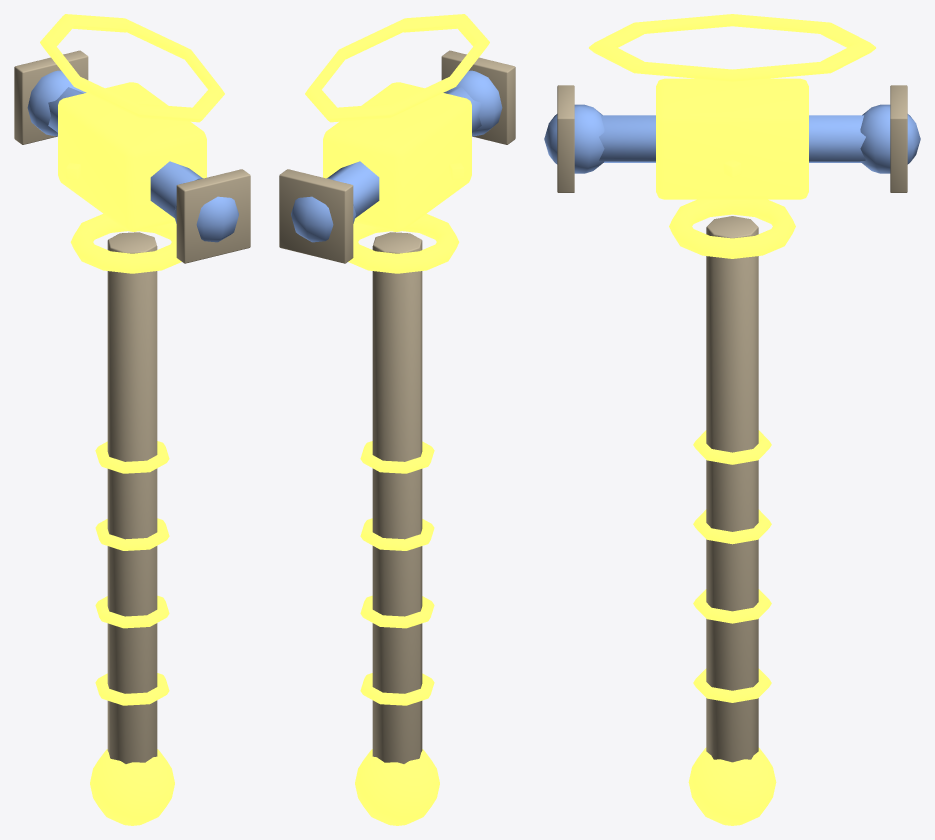
The model's file is SM_ThunderHammer_LOD0.fbx.
The picture shows the model from 3 angles, left to right: view 1: azimuth 30°, elevation 25°; view 2: azimuth 150°, elevation 25°; view 3: azimuth 270°, elevation 25°; orthographic projection. The views are drawn at different scales.
Parts seen in each view (by area): view 1: SM_ThunderHammer_Handle, SM_ThunderHammer_Head, SM_ThunderHammer_Crown, SM_ThunderHammer_Pommel, SM_ThunderHammer_StrikeFace_L, SM_ThunderHammer_Collar, SM_ThunderHammer_StrikeFace_R, SM_ThunderHammer_LightningCore, SM_ThunderHammer_CoreGlow_L, SM_ThunderHammer_CoreGlow_R, SM_ThunderHammer_GripBand_85, SM_ThunderHammer_GripBand_25 (+2 smaller); view 2: SM_ThunderHammer_Handle, SM_ThunderHammer_Head, SM_ThunderHammer_Crown, SM_ThunderHammer_Pommel, SM_ThunderHammer_StrikeFace_R, SM_ThunderHammer_Collar, SM_ThunderHammer_StrikeFace_L, SM_ThunderHammer_LightningCore, SM_ThunderHammer_CoreGlow_R, SM_ThunderHammer_CoreGlow_L, SM_ThunderHammer_GripBand_85, SM_ThunderHammer_GripBand_25 (+2 smaller); view 3: SM_ThunderHammer_Handle, SM_ThunderHammer_Head, SM_ThunderHammer_Crown, SM_ThunderHammer_LightningCore, SM_ThunderHammer_Pommel, SM_ThunderHammer_Collar, SM_ThunderHammer_CoreGlow_L, SM_ThunderHammer_CoreGlow_R, SM_ThunderHammer_StrikeFace_L, SM_ThunderHammer_StrikeFace_R, SM_ThunderHammer_GripBand_45, SM_ThunderHammer_GripBand_65 (+2 smaller).
Part boxes in pixels (x1=…): SM_ThunderHammer_Handle: x1=107, y1=232, x2=157, y2=763; SM_ThunderHammer_Head: x1=58, y1=82, x2=206, y2=231; SM_ThunderHammer_Crown: x1=40, y1=14, x2=224, y2=122; SM_ThunderHammer_Pommel: x1=90, y1=749, x2=174, y2=825; SM_ThunderHammer_StrikeFace_L: x1=176, y1=169, x2=250, y2=263; SM_ThunderHammer_Collar: x1=70, y1=213, x2=181, y2=273; SM_ThunderHammer_StrikeFace_R: x1=14, y1=50, x2=88, y2=144; SM_ThunderHammer_LightningCore: x1=48, y1=87, x2=202, y2=217; SM_ThunderHammer_CoreGlow_L: x1=173, y1=178, x2=238, y2=242; SM_ThunderHammer_CoreGlow_R: x1=27, y1=70, x2=86, y2=136; SM_ThunderHammer_GripBand_85: x1=95, y1=441, x2=169, y2=473; SM_ThunderHammer_GripBand_25: x1=95, y1=673, x2=169, y2=705; SM_ThunderHammer_Handle: x1=372, y1=232, x2=422, y2=763; SM_ThunderHammer_Head: x1=323, y1=82, x2=471, y2=231; SM_ThunderHammer_Crown: x1=305, y1=14, x2=489, y2=122; SM_ThunderHammer_Pommel: x1=355, y1=749, x2=439, y2=825; SM_ThunderHammer_StrikeFace_R: x1=279, y1=169, x2=353, y2=263; SM_ThunderHammer_Collar: x1=348, y1=213, x2=459, y2=273; SM_ThunderHammer_StrikeFace_L: x1=441, y1=50, x2=515, y2=144; SM_ThunderHammer_LightningCore: x1=327, y1=87, x2=481, y2=217; SM_ThunderHammer_CoreGlow_R: x1=291, y1=178, x2=356, y2=242; SM_ThunderHammer_CoreGlow_L: x1=443, y1=70, x2=502, y2=136; SM_ThunderHammer_GripBand_85: x1=360, y1=441, x2=434, y2=473; SM_ThunderHammer_GripBand_25: x1=360, y1=673, x2=434, y2=705; SM_ThunderHammer_Handle: x1=706, y1=216, x2=758, y2=762; SM_ThunderHammer_Head: x1=656, y1=78, x2=808, y2=199; SM_ThunderHammer_Crown: x1=589, y1=14, x2=875, y2=81; SM_ThunderHammer_LightningCore: x1=599, y1=115, x2=865, y2=162; SM_ThunderHammer_Pommel: x1=688, y1=747, x2=776, y2=825; SM_ThunderHammer_Collar: x1=669, y1=199, x2=795, y2=258; SM_ThunderHammer_CoreGlow_L: x1=544, y1=104, x2=604, y2=173; SM_ThunderHammer_CoreGlow_R: x1=860, y1=104, x2=920, y2=173; SM_ThunderHammer_StrikeFace_L: x1=557, y1=85, x2=574, y2=192; SM_ThunderHammer_StrikeFace_R: x1=890, y1=85, x2=907, y2=192; SM_ThunderHammer_GripBand_45: x1=693, y1=589, x2=771, y2=623; SM_ThunderHammer_GripBand_65: x1=693, y1=509, x2=771, y2=544.
Size of the model in its own units: 0.3599 by 1.96 by 0.86.
